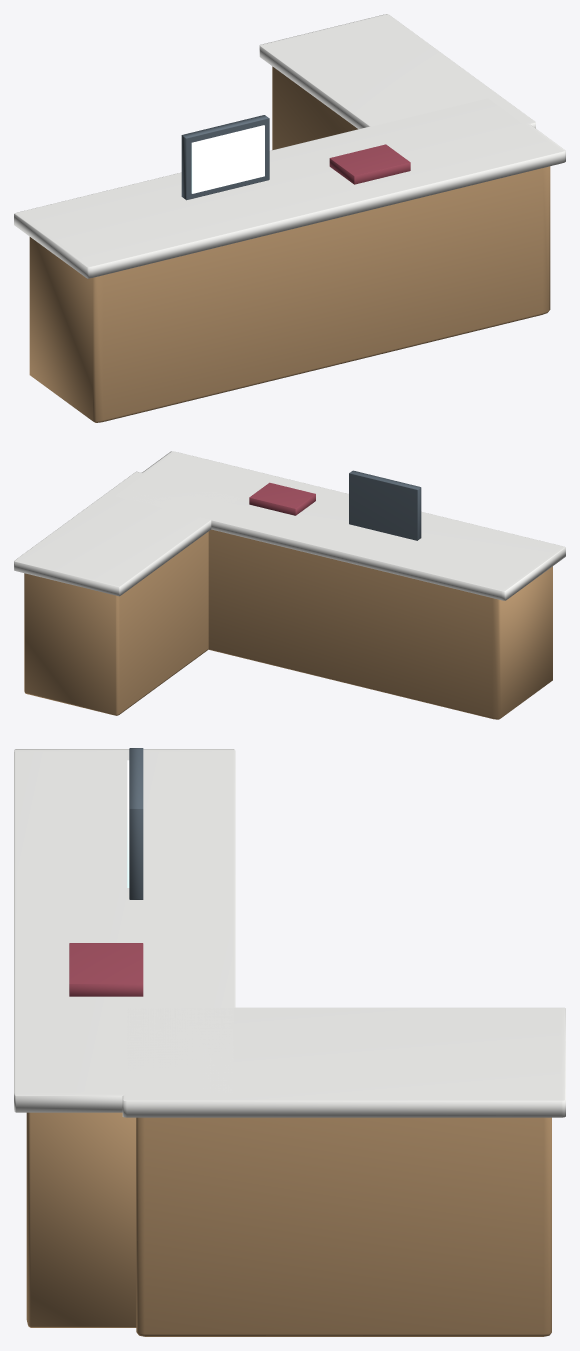
The model's file is SM_School_ReceptionCounter.fbx.
3 views of the same model, one above another, from view 1: azimuth 30°, elevation 25°; view 2: azimuth 150°, elevation 25°; view 3: azimuth 270°, elevation 25° (orthographic). The views are drawn at different scales.
Visible parts, largest first — view 1: SM_School_ReceptionCounter; view 2: SM_School_ReceptionCounter; view 3: SM_School_ReceptionCounter.
Boxes of the visible parts, box(x1,y1,x2,y2) form: SM_School_ReceptionCounter: box(14, 14, 565, 422); SM_School_ReceptionCounter: box(14, 451, 565, 719); SM_School_ReceptionCounter: box(14, 748, 565, 1336).
Size of the model in its own units: 3.61 by 1.64 by 2.39.
